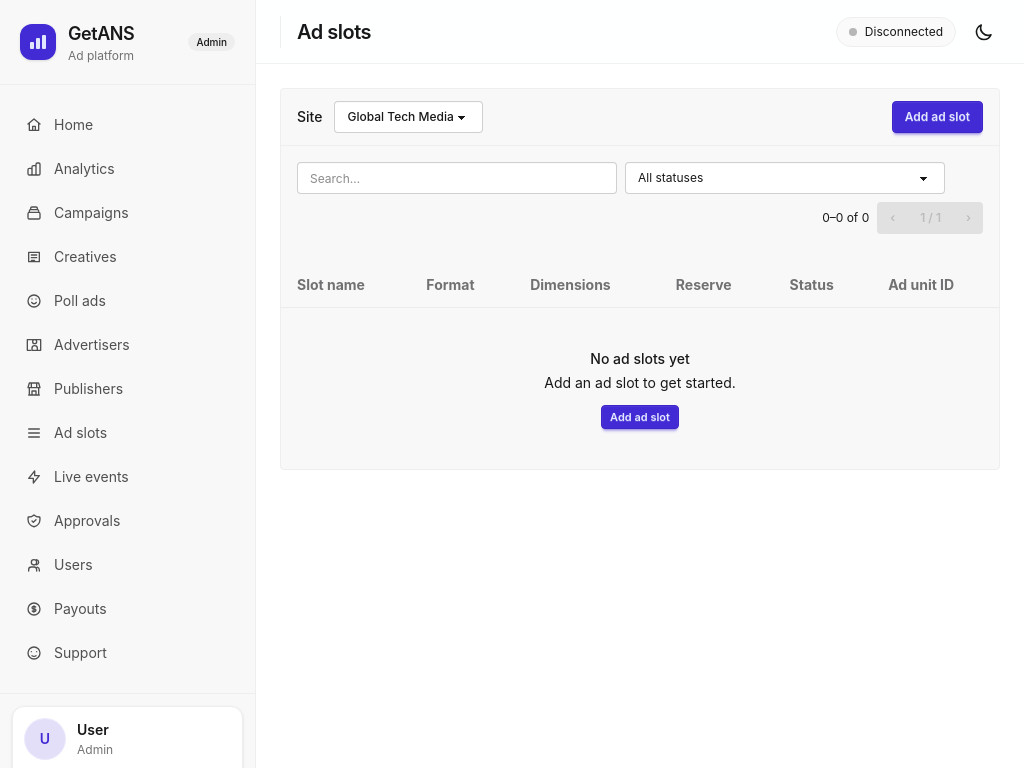
Test: publisher list and detail › renders a dash for a zero reserve price and an empty slot state
Select "Global Tech Media" in the dropdown named "Select site for ad slots" at (409, 117), box [334,101,483,133]
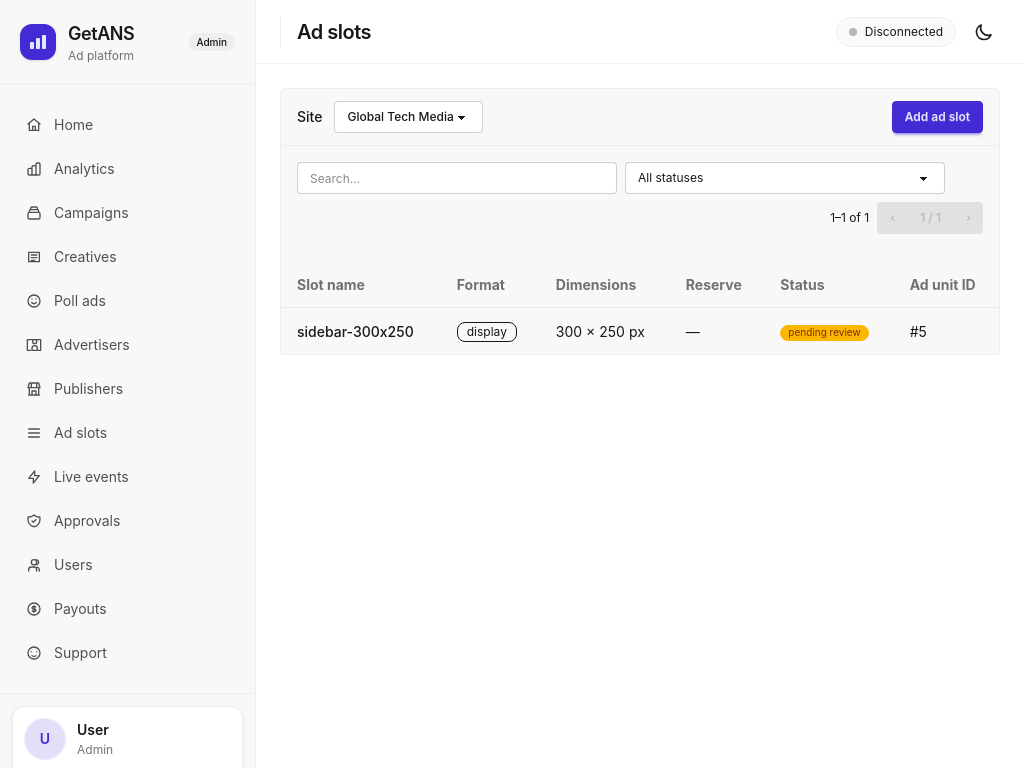
Expected: the text "—" is shown, [670,308,764,354]
